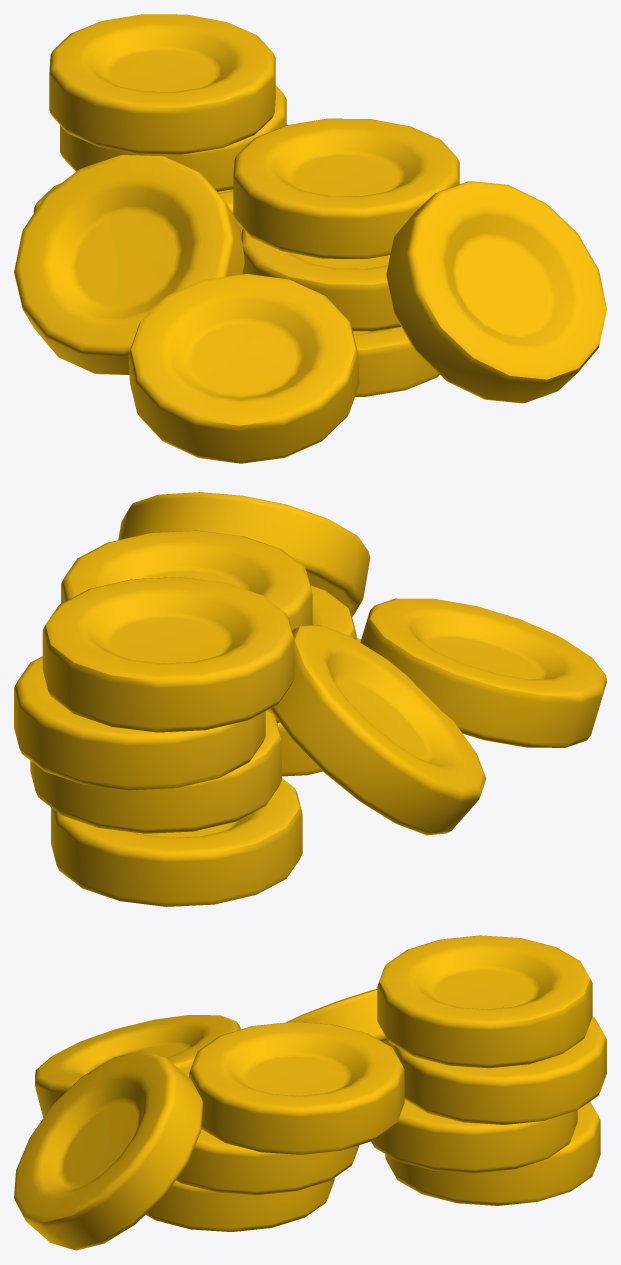
3 views of the same model, one above another, from view 1: azimuth 30°, elevation 25°; view 2: azimuth 150°, elevation 25°; view 3: azimuth 270°, elevation 25° (orthographic). The views are drawn at different scales.
Visible parts, largest first — view 1: model_0.117; view 2: model_0.117; view 3: model_0.117.
Boxes of the visible parts, x1=… form: model_0.117: x1=14, y1=14, x2=606, y2=463; model_0.117: x1=14, y1=492, x2=606, y2=906; model_0.117: x1=14, y1=935, x2=606, y2=1250.
Size of the model in its own units: 3.9 by 1.76 by 4.88.
